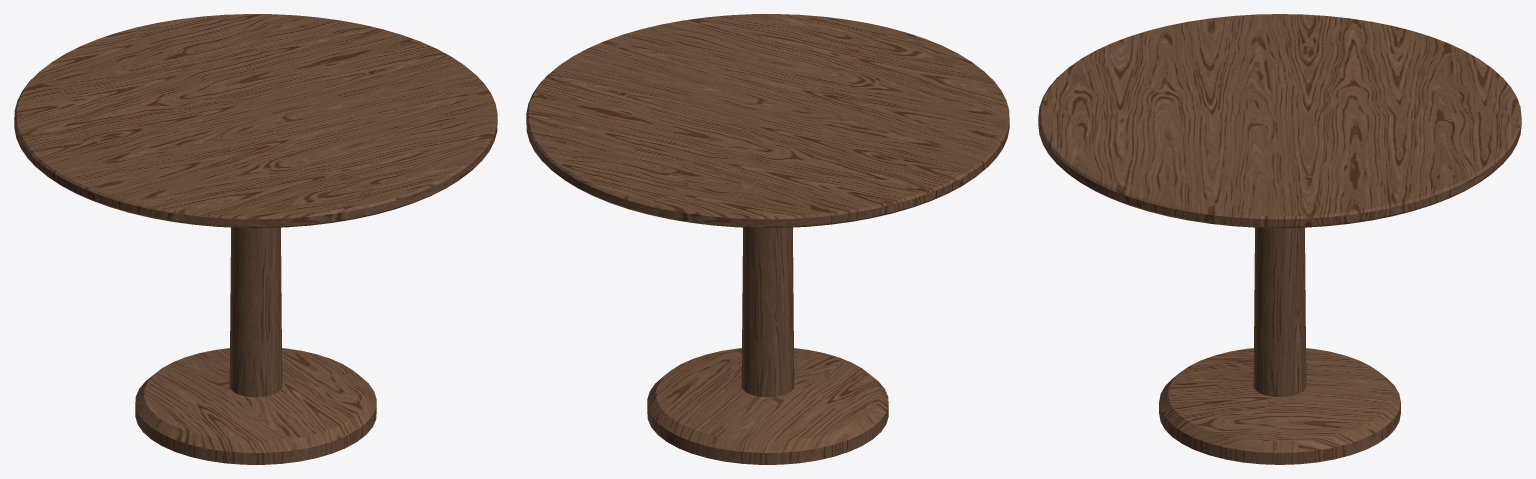
File: mesa_redonda_madera_pie_nogal.glb
3 renders of one model, left to right at view 1: azimuth 30°, elevation 25°; view 2: azimuth 150°, elevation 25°; view 3: azimuth 270°, elevation 25°, orthographic.
Parts seen in each view (by area): view 1: mesa_redonda_madera_pie_nogal; view 2: mesa_redonda_madera_pie_nogal; view 3: mesa_redonda_madera_pie_nogal.
Boxes of the visible parts, x1,y1,x2,y2 form: mesa_redonda_madera_pie_nogal: (14, 14, 497, 464); mesa_redonda_madera_pie_nogal: (526, 14, 1009, 464); mesa_redonda_madera_pie_nogal: (1038, 14, 1521, 464).
Size of the model in its own units: 1.1 by 0.75 by 1.1.
Materials: 1 (1 with a texture image).
